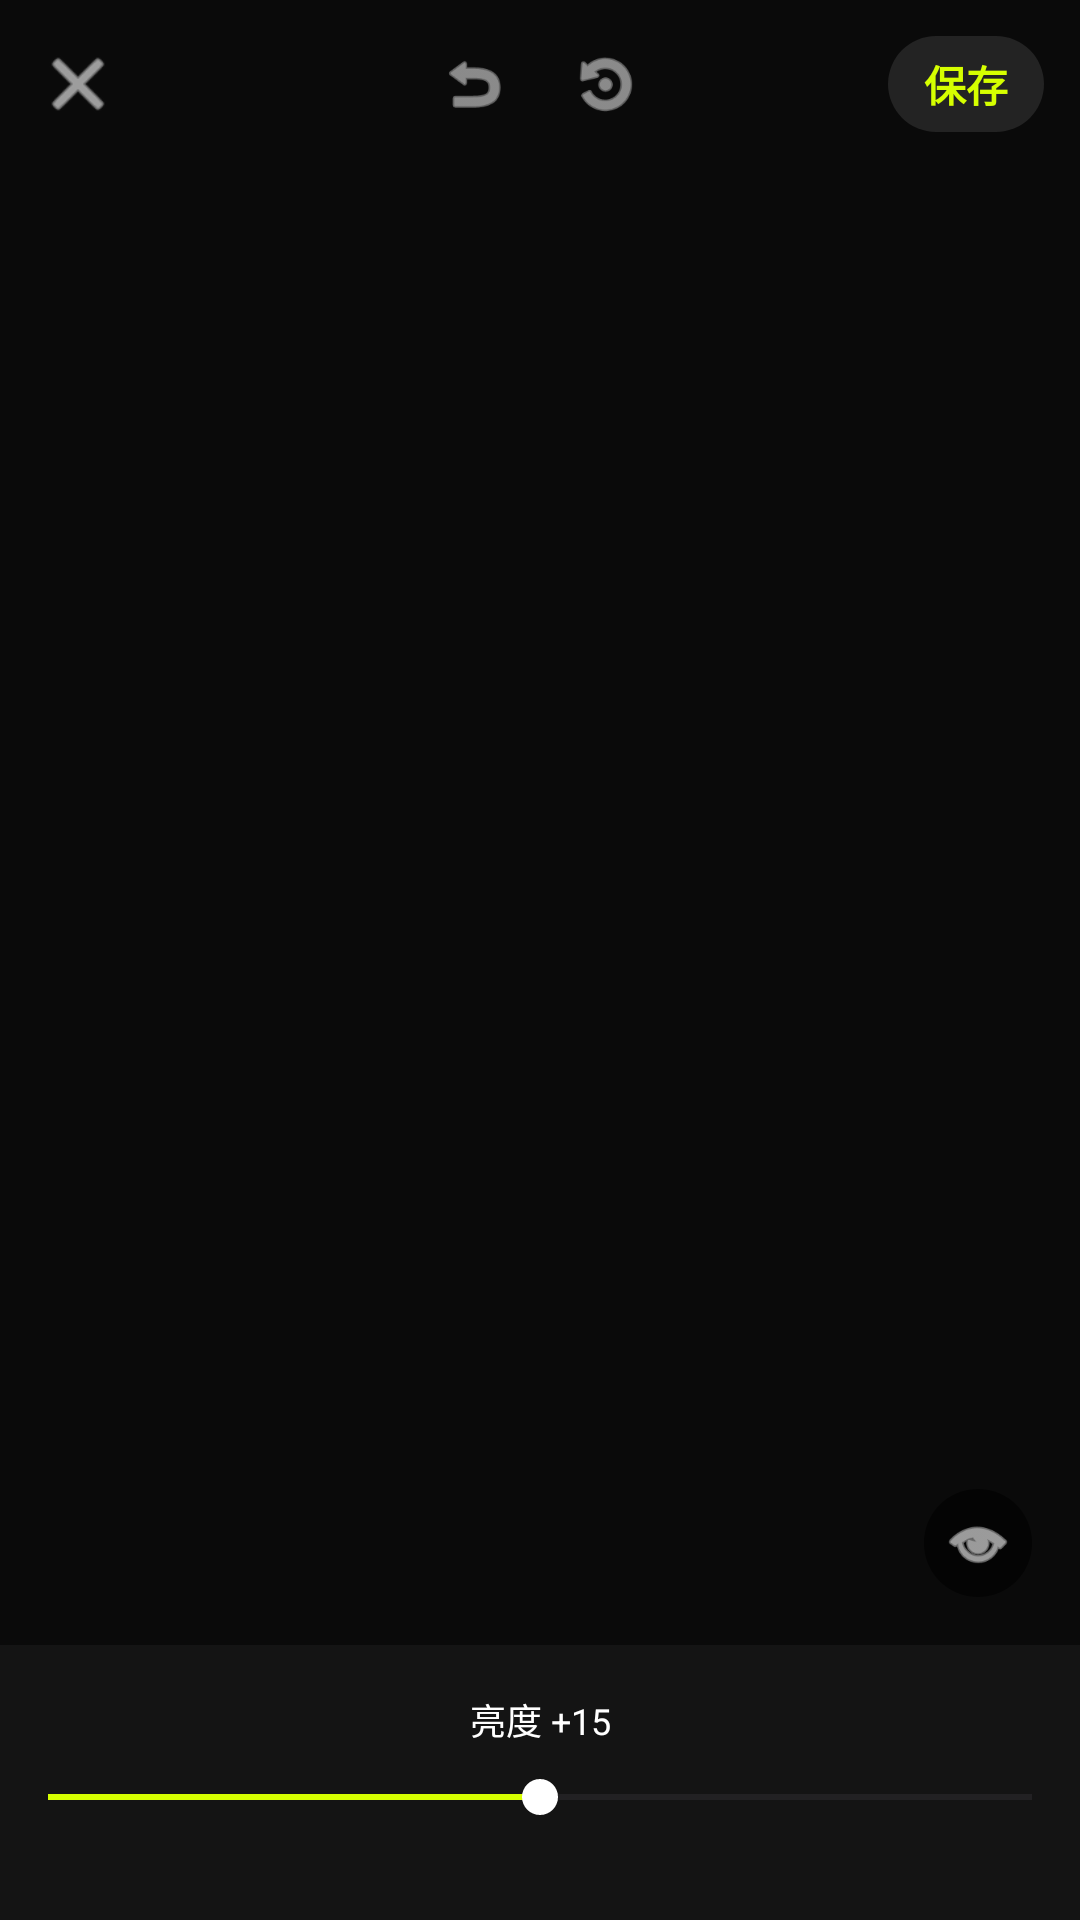

Where icons sit on this 1080px x 1920px app screen, as (x1, y1, x2, y2):
close clear cancel: (52, 58, 104, 110)
view: (949, 1526, 1007, 1563)
